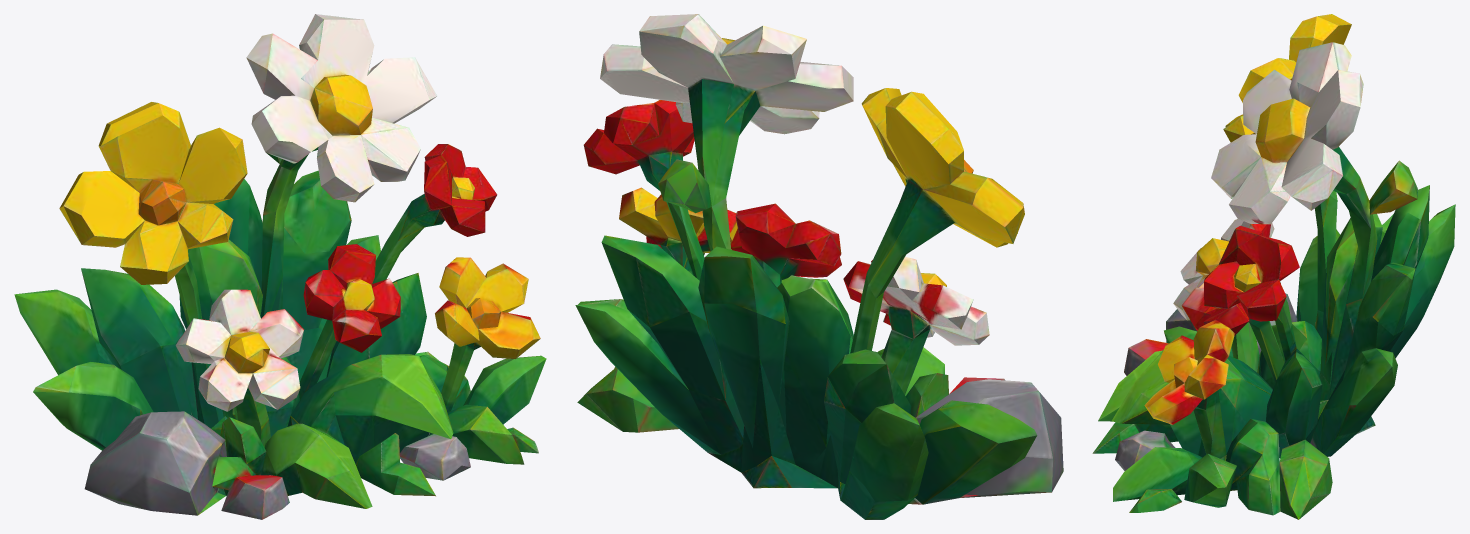
File: wildflowers_mobile.glb
The picture shows the model from 3 angles, left to right: view 1: azimuth 30°, elevation 25°; view 2: azimuth 150°, elevation 25°; view 3: azimuth 270°, elevation 25°; orthographic projection. The views are drawn at different scales.
Parts seen in each view (by area): view 1: output_unwrapped; view 2: output_unwrapped; view 3: output_unwrapped.
Boxes of the visible parts, x1,y1,x2,y2 form: output_unwrapped: [14, 14, 546, 519]; output_unwrapped: [575, 14, 1063, 519]; output_unwrapped: [1092, 14, 1455, 519].
Bounding box in the file's own units: 1.9 × 1.54 × 1.3.
1 material, 1 textured.
